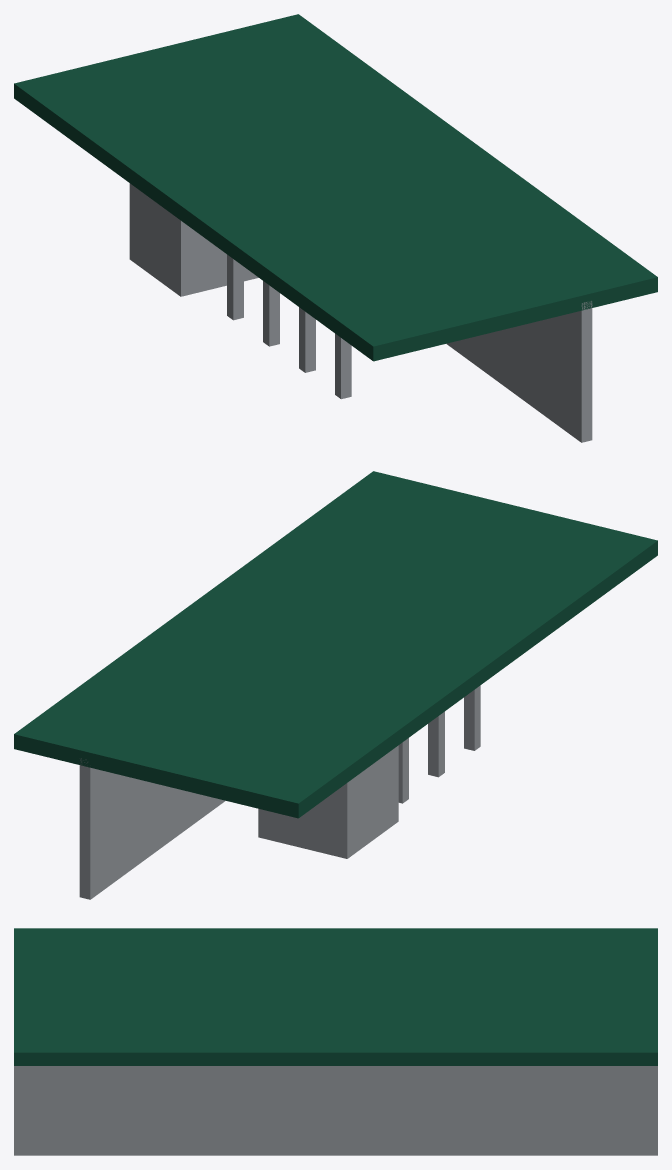
File: SM_Environment_Station_001.obj
3 views of the same model, one above another, from view 1: azimuth 30°, elevation 25°; view 2: azimuth 150°, elevation 25°; view 3: azimuth 270°, elevation 25° (orthographic). The views are drawn at different scales.
Visible parts, largest first — view 1: Roof, BackWall, Pillar4, Pillar2, Pillar0, Pillar1, Pillar3; view 2: Roof, BackWall, Pillar4, Pillar0, Pillar1, Pillar2; view 3: Roof, BackWall.
Part boxes in pixels (x1,y1,x2,y2): Roof: [14, 14, 657, 361]; BackWall: [446, 301, 592, 442]; Pillar4: [129, 183, 258, 296]; Pillar2: [263, 281, 279, 346]; Pillar0: [335, 333, 351, 399]; Pillar1: [299, 307, 315, 372]; Pillar3: [227, 254, 243, 320]; Roof: [14, 471, 657, 818]; BackWall: [79, 758, 225, 899]; Pillar4: [258, 745, 398, 858]; Pillar0: [464, 685, 480, 750]; Pillar1: [428, 711, 444, 777]; Pillar2: [398, 738, 408, 803]; Roof: [14, 928, 657, 1065]; BackWall: [14, 1066, 657, 1155].
Bounding box in the file's own units: 6.4 × 3.16 × 14.
